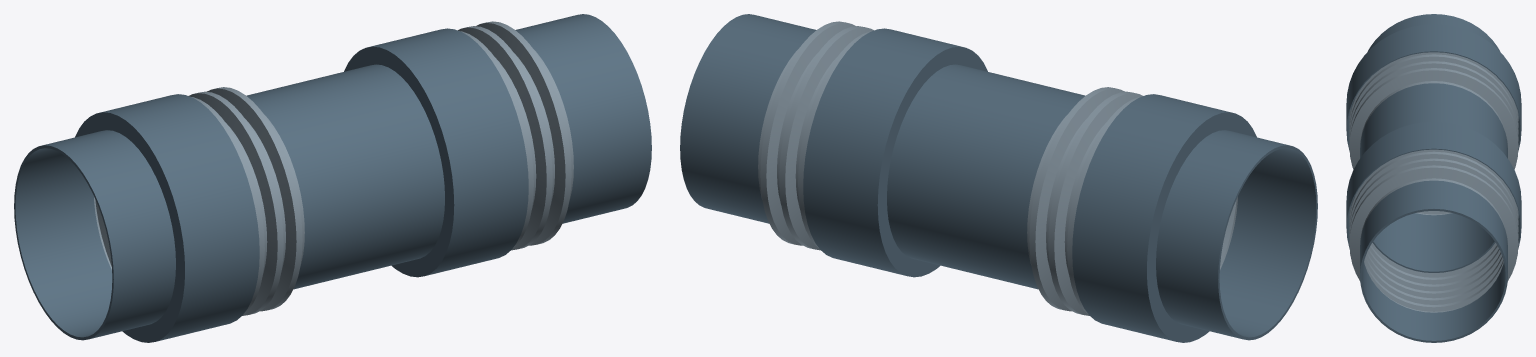
The model's file is 2silf-dn500-L1650-D530-k-o700.glb.
The picture shows the model from 3 angles, left to right: view 1: azimuth 30°, elevation 25°; view 2: azimuth 150°, elevation 25°; view 3: azimuth 270°, elevation 25°; orthographic projection. The views are drawn at different scales.
Visible parts, largest first — view 1: patrubok_1, osnovanie_kozhuh_1, osnovanie_kozhuh_2, patrubok_2, patrubok_4, patrubok_3, prokladka_silfon_1, prokladka_silfon_2; view 2: patrubok_1, osnovanie_kozhuh_1, osnovanie_kozhuh_2, patrubok_2, patrubok_4, patrubok_3, prokladka_silfon_1, prokladka_silfon_2; view 3: prokladka_silfon_2, patrubok_4, prokladka_silfon_1, patrubok_2, osnovanie_kozhuh_1, osnovanie_kozhuh_2, patrubok_3, patrubok_1.
Part boxes in pixels (x1,y1,x2,y2): patrubok_1: (14,130,175,340); osnovanie_kozhuh_1: (75,94,259,342); osnovanie_kozhuh_2: (344,28,528,277); patrubok_2: (246,79,382,289); patrubok_4: (515,14,651,223); patrubok_3: (310,64,444,273); prokladka_silfon_1: (94,87,304,315); prokladka_silfon_2: (458,21,573,250); patrubok_1: (1156,130,1317,340); osnovanie_kozhuh_1: (1072,94,1256,342); osnovanie_kozhuh_2: (803,28,987,277); patrubok_2: (949,79,1085,289); patrubok_4: (680,14,816,223); patrubok_3: (887,64,1021,273); prokladka_silfon_1: (1027,87,1237,315); prokladka_silfon_2: (758,21,873,250); prokladka_silfon_2: (1349,149,1518,312); patrubok_4: (1360,180,1507,342); prokladka_silfon_1: (1349,52,1518,215); patrubok_2: (1360,83,1507,243); osnovanie_kozhuh_1: (1346,24,1521,150); osnovanie_kozhuh_2: (1346,121,1521,248); patrubok_3: (1367,111,1500,272); patrubok_1: (1367,14,1500,51).
Bounding box in the file's own units: 1650 × 627 × 627.
